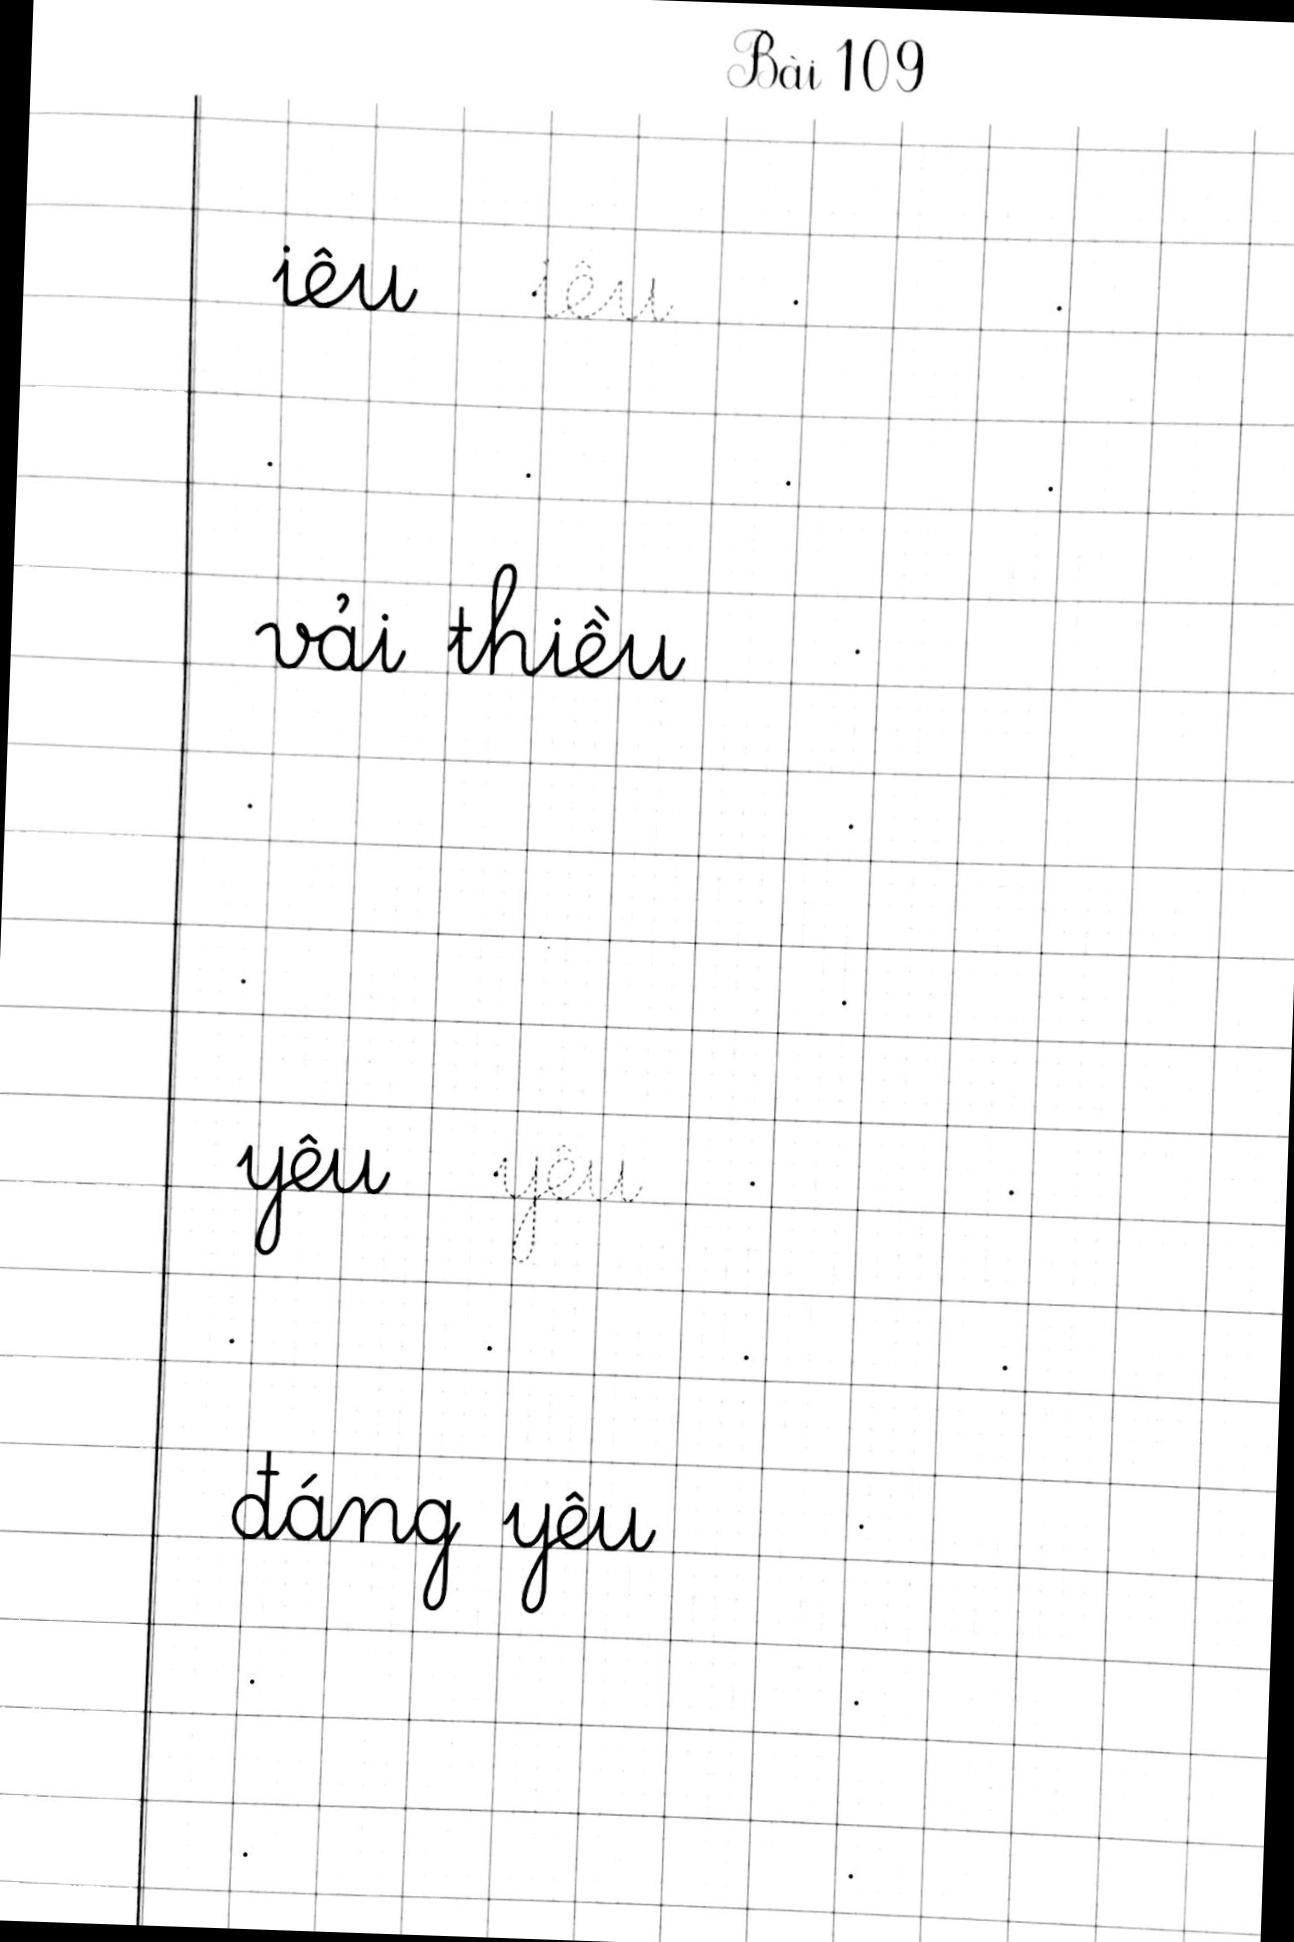text: (224, 1442, 666, 1626), (254, 547, 696, 693), (225, 1128, 399, 1263), (484, 1135, 650, 1272), (715, 17, 933, 103), (261, 235, 429, 322), (514, 245, 682, 329)
